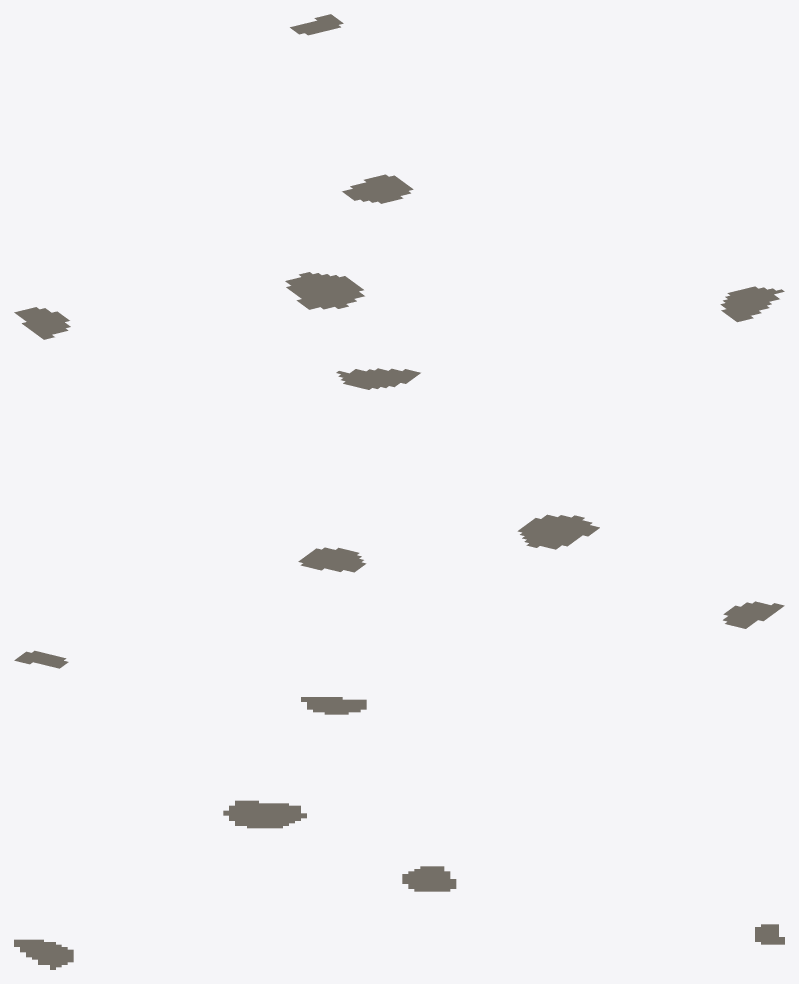
The model's file is Map-5-RocksArea.fbx.
3 views of the same model, one above another, from view 1: azimuth 30°, elevation 25°; view 2: azimuth 150°, elevation 25°; view 3: azimuth 270°, elevation 25° (orthographic). The views are drawn at different scales.
Visible parts, largest first — view 1: Map-5-RocksArea; view 2: Map-5-RocksArea; view 3: Map-5-RocksArea.
Part boxes in pixels (<box>): Map-5-RocksArea: <box>14,14,784,339</box>; Map-5-RocksArea: <box>14,368,784,668</box>; Map-5-RocksArea: <box>14,697,784,969</box>.
Size of the model in its own units: 108 by 0 by 129.
